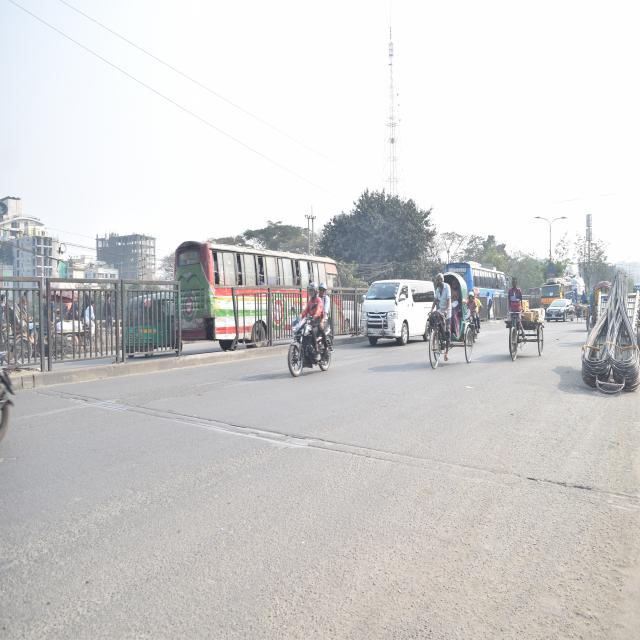car: (546, 293, 576, 326)
microbus: (357, 272, 437, 354)
motorbike: (281, 294, 336, 388)
pickup-van: (537, 274, 567, 314)
